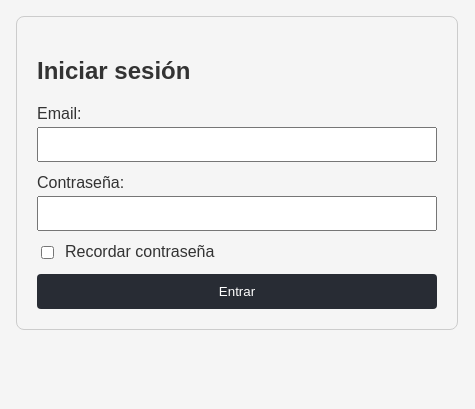
Test: LoginPage › shows error message on login failure
Type "test@example.com" into the field labelled "Email:" at (237, 144), box [37,127,437,162]
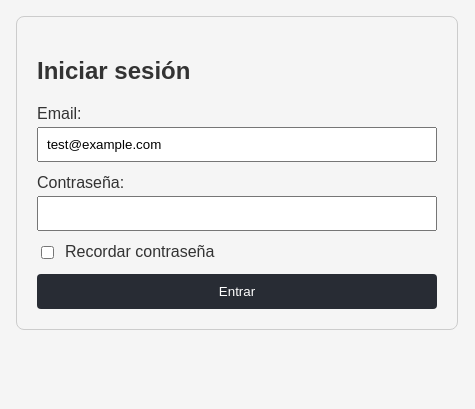
Type "wrongpassword" into the password field labelled "Contraseña:" at (237, 213), box [37,196,437,231]
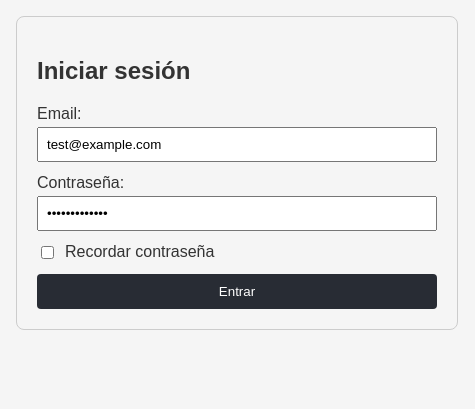
Click the button "Entrar" at (237, 291), box [37,274,437,309]
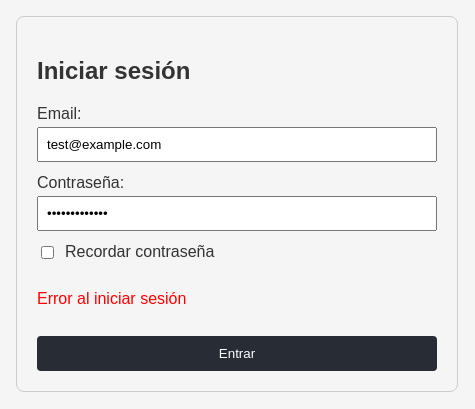
Expected: the text "Error al iniciar sesión" is shown, [37,290,186,307]
